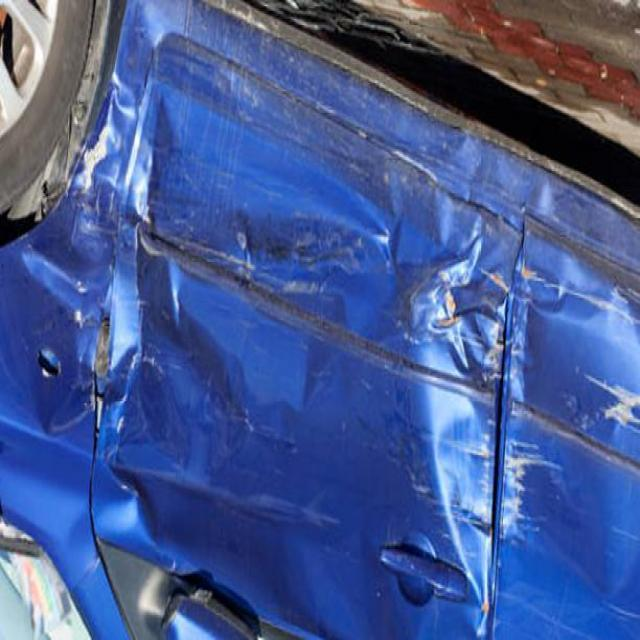dent: (394, 170, 568, 630), (51, 81, 242, 434)
